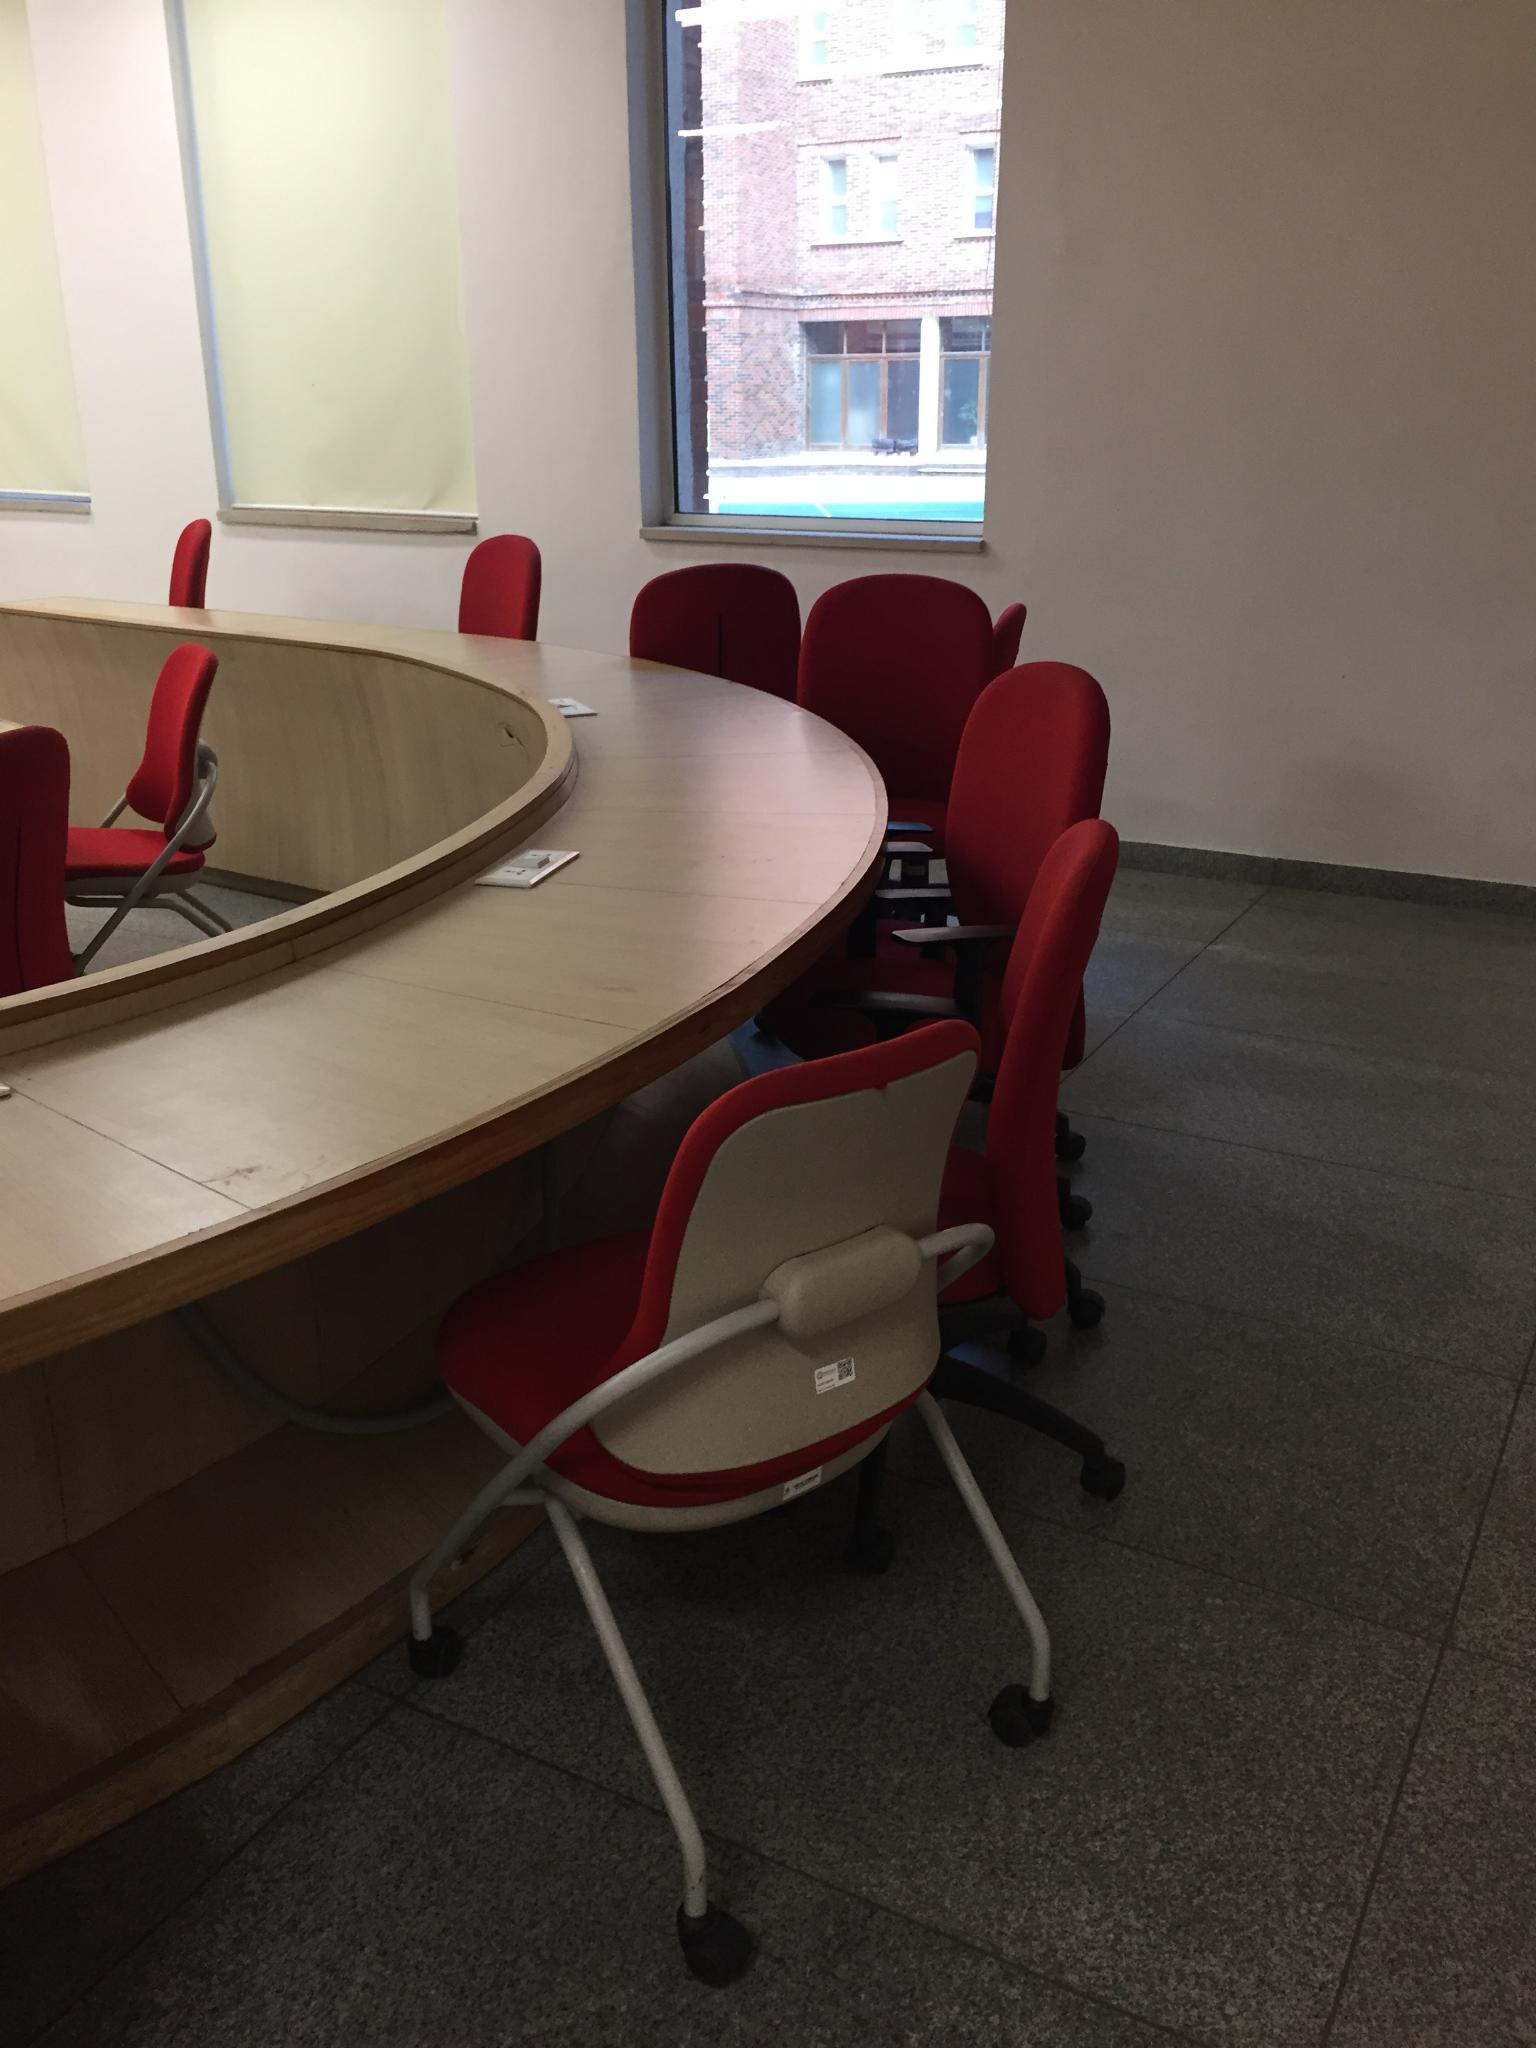chair: (407, 1014, 1054, 1985), (768, 822, 1183, 1550), (866, 639, 1163, 948), (800, 558, 1086, 826), (63, 640, 232, 976), (628, 561, 802, 701), (450, 505, 595, 671), (0, 721, 76, 997), (147, 500, 260, 621), (457, 534, 542, 640), (168, 518, 211, 606)
